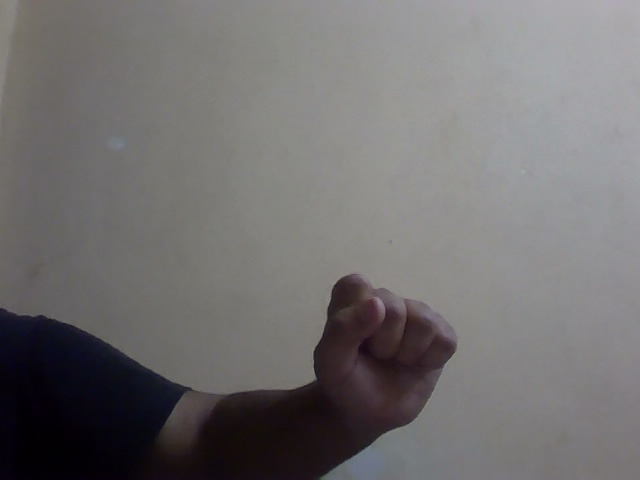Yes: (276, 247, 485, 444)
